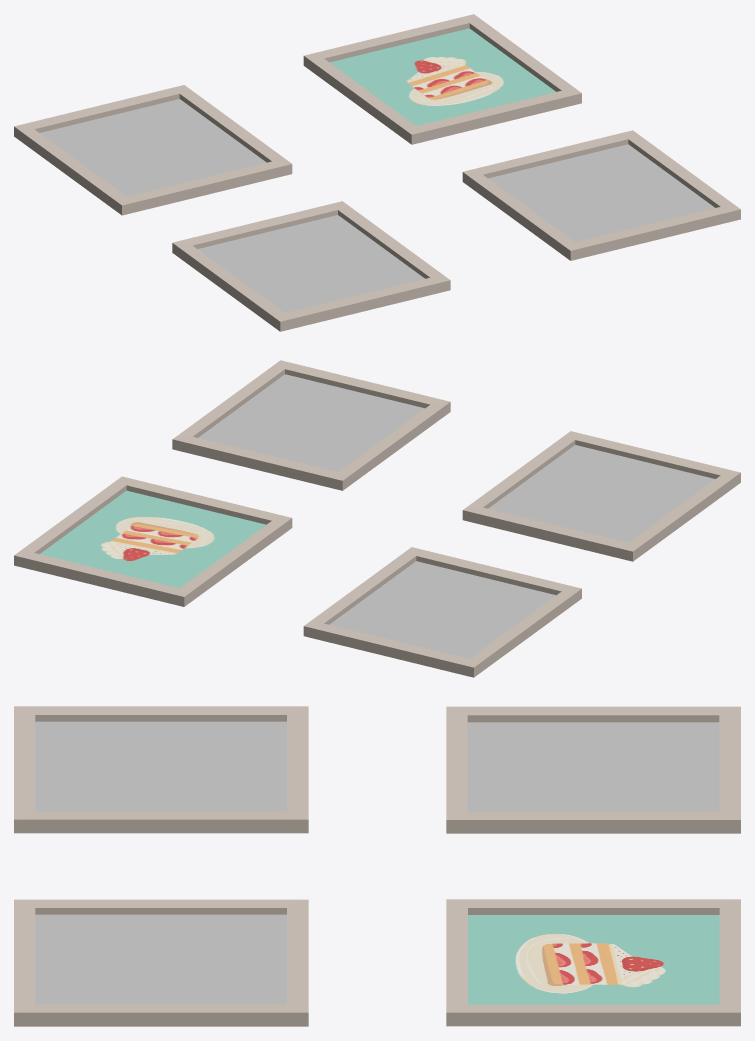
Rendered from set of paintings2.fbx.
3 renders of one model, top to bottom at view 1: azimuth 30°, elevation 25°; view 2: azimuth 150°, elevation 25°; view 3: azimuth 270°, elevation 25°, orthographic. The views are drawn at different scales.
Parts seen in each view (by area): view 1: Plane.001, Plane.006, Plane.007, Plane.004; view 2: Plane.004, Plane.001, Plane.006, Plane.007; view 3: Plane.001, Plane.004, Plane.006, Plane.007.
Part boxes in pixels (<box>): Plane.001: <box>303,14,581,144</box>; Plane.006: <box>172,201,450,331</box>; Plane.007: <box>14,85,292,215</box>; Plane.004: <box>462,130,740,260</box>; Plane.004: <box>172,360,450,490</box>; Plane.001: <box>14,476,292,606</box>; Plane.006: <box>462,431,740,561</box>; Plane.007: <box>303,547,581,677</box>; Plane.001: <box>446,899,740,1026</box>; Plane.004: <box>14,899,308,1026</box>; Plane.006: <box>14,706,308,833</box>; Plane.007: <box>446,706,740,833</box>.
Bounding box in the file's own units: 492 × 10.28 × 494.
